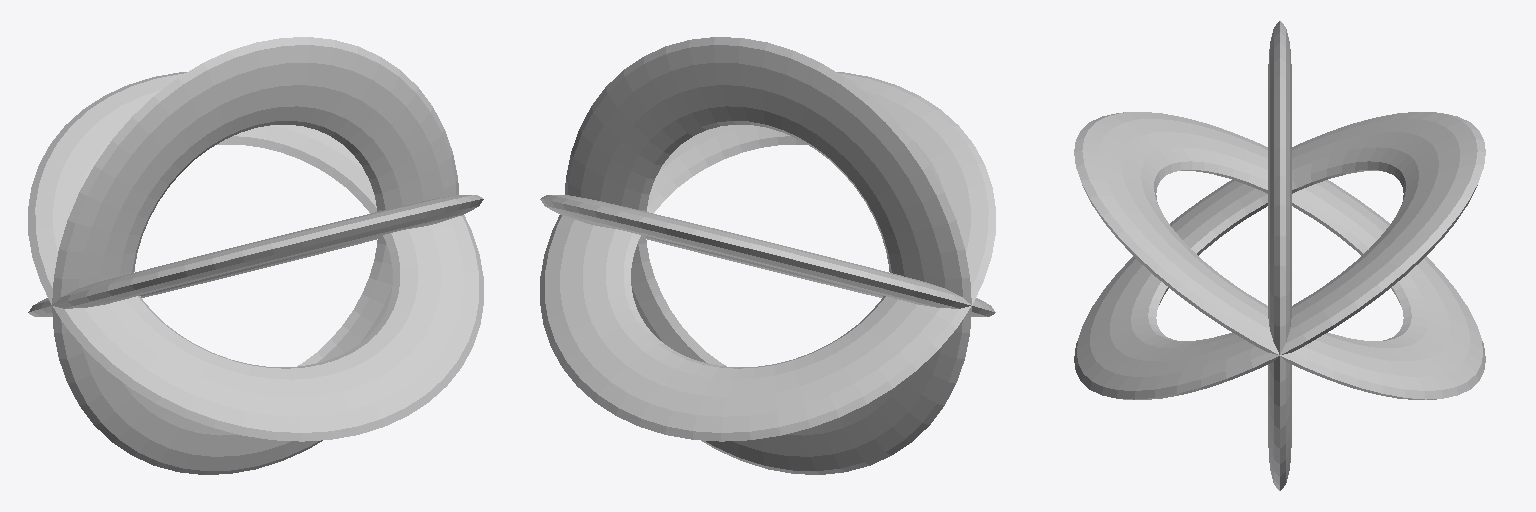
The model's file is rings.obj.
3 renders of one model, left to right at view 1: azimuth 30°, elevation 25°; view 2: azimuth 150°, elevation 25°; view 3: azimuth 270°, elevation 25°, orthographic.
Parts seen in each view (by area): view 1: Torus.001, Torus, Torus.002; view 2: Torus.001, Torus.002, Torus; view 3: Torus, Torus.002, Torus.001.
Boxes of the visible parts, x1,y1,x2,y2 form: Torus.001: [52, 37, 458, 474]; Torus: [28, 72, 483, 441]; Torus.002: [28, 195, 483, 316]; Torus.001: [565, 37, 971, 474]; Torus.002: [540, 72, 995, 441]; Torus: [540, 195, 995, 316]; Torus: [1074, 112, 1485, 399]; Torus.002: [1074, 112, 1485, 399]; Torus.001: [1268, 21, 1291, 490].
Size of the model in its own units: 5 by 5 by 4.37.